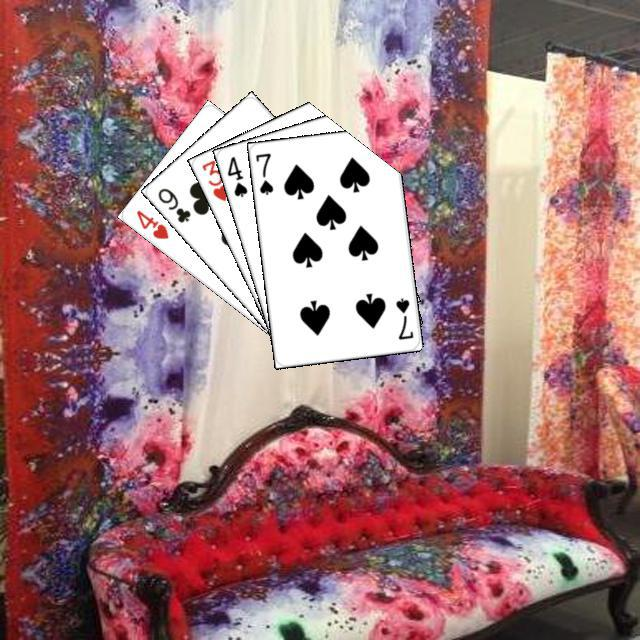3h: (197, 155, 230, 203)
4h: (131, 205, 170, 241)
4s: (222, 151, 249, 199)
7s: (251, 148, 275, 197), (391, 293, 415, 341)
9c: (153, 183, 192, 224)
